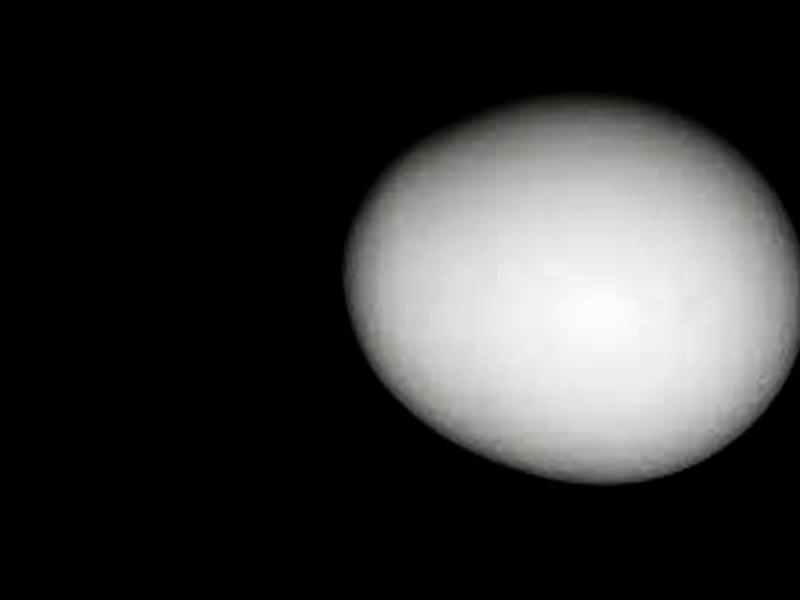Eggs: (344, 95, 800, 487)
